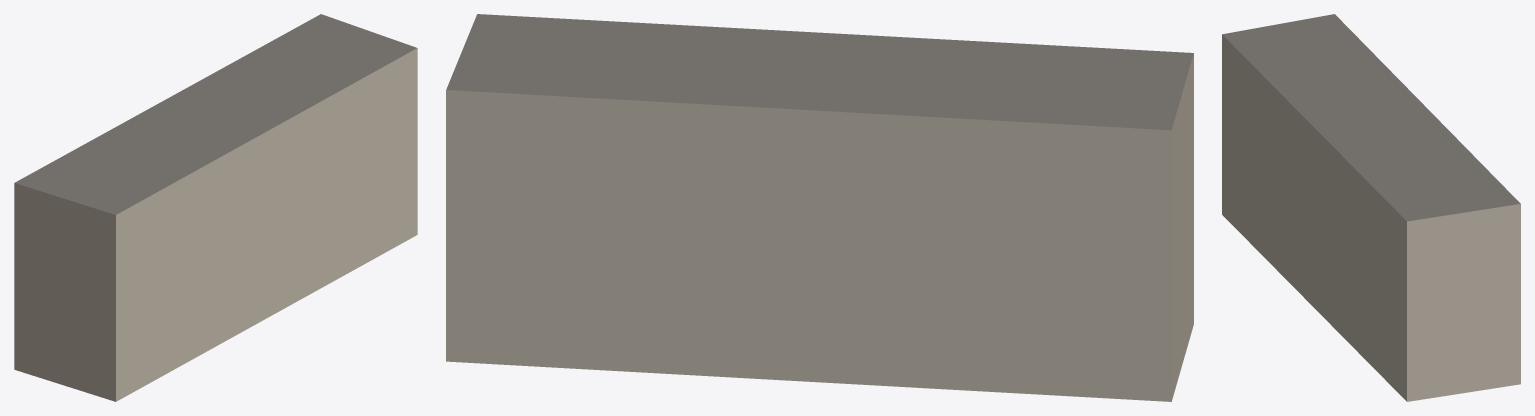
The picture shows the model from 3 angles, left to right: view 1: azimuth 30°, elevation 25°; view 2: azimuth 150°, elevation 25°; view 3: azimuth 270°, elevation 25°; orthographic projection. The views are drawn at different scales.
Parts seen in each view (by area): view 1: HP-w505649241; view 2: HP-w505649241; view 3: HP-w505649241.
Part boxes in pixels (<box>): HP-w505649241: <box>14,14,417,401</box>; HP-w505649241: <box>446,14,1193,401</box>; HP-w505649241: <box>1222,14,1520,401</box>.
Size of the model in its own units: 44.39 by 18 by 27.01.
